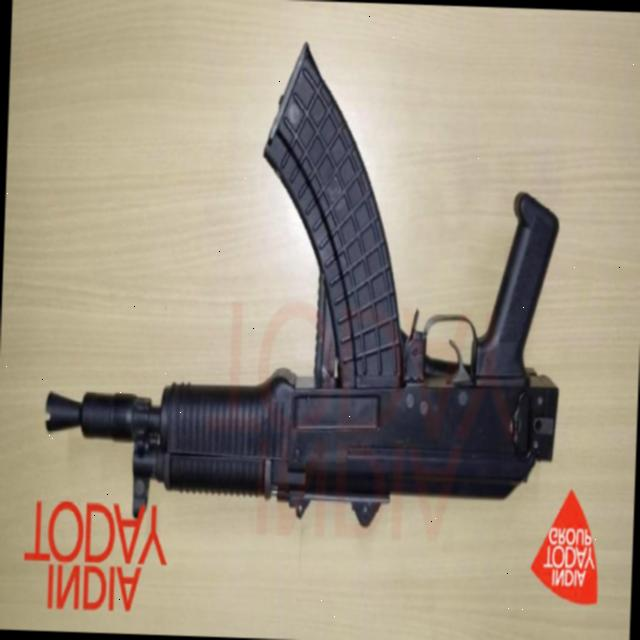Automaticrifle: (43, 38, 570, 534)
